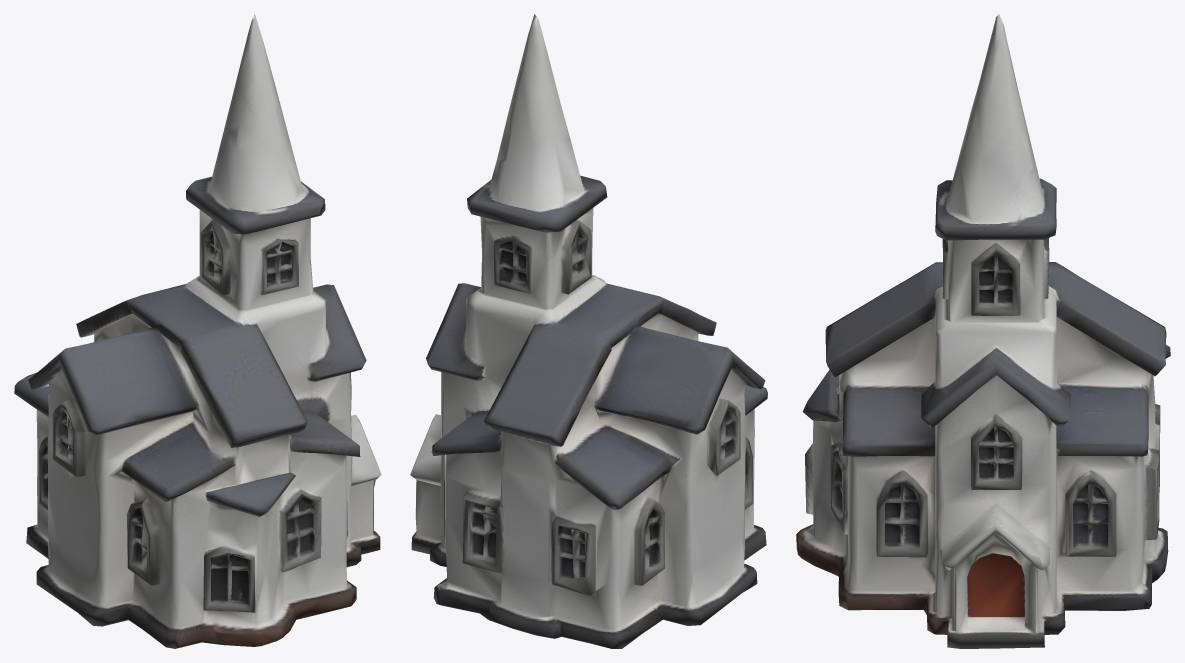
Rendered from church.glb.
3 views of the same model, side by side, from view 1: azimuth 30°, elevation 25°; view 2: azimuth 150°, elevation 25°; view 3: azimuth 270°, elevation 25° (orthographic). The views are drawn at different scales.
Visible parts, largest first — view 1: tripo_node_ce1a4840-8b20-406d-b967-fbf3343ed768; view 2: tripo_node_ce1a4840-8b20-406d-b967-fbf3343ed768; view 3: tripo_node_ce1a4840-8b20-406d-b967-fbf3343ed768.
Part boxes in pixels (<box>): tripo_node_ce1a4840-8b20-406d-b967-fbf3343ed768: <box>14,14,381,648</box>; tripo_node_ce1a4840-8b20-406d-b967-fbf3343ed768: <box>410,14,767,648</box>; tripo_node_ce1a4840-8b20-406d-b967-fbf3343ed768: <box>796,14,1170,648</box>.
Size of the model in its own units: 0.5799 by 1 by 0.5836.
Materials: 1 (1 with a texture image).
